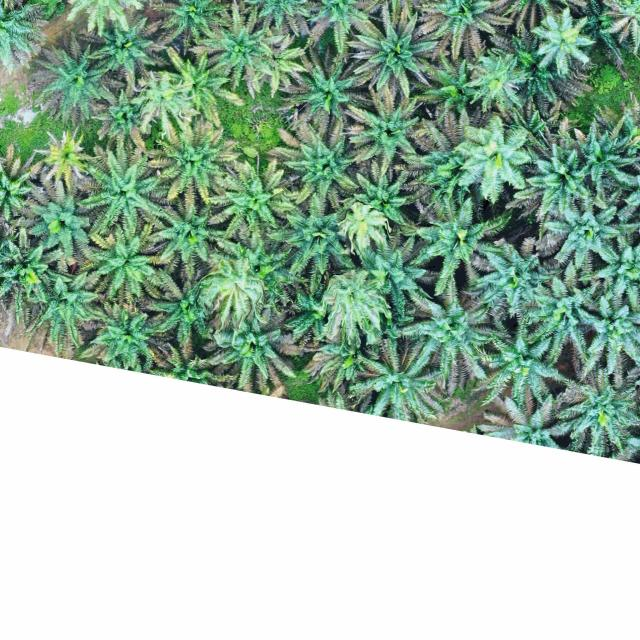Tree: (397, 272, 516, 394), (409, 193, 513, 296), (266, 112, 369, 210), (183, 0, 284, 99), (504, 134, 608, 228), (471, 319, 576, 412), (26, 30, 124, 126), (495, 26, 595, 120), (264, 190, 358, 290), (147, 110, 245, 205), (530, 192, 640, 276), (74, 138, 170, 234), (351, 3, 442, 102), (460, 234, 562, 321), (202, 156, 300, 246), (394, 104, 480, 206), (202, 301, 307, 382), (524, 256, 602, 365), (343, 84, 428, 178), (0, 223, 74, 328), (78, 218, 168, 304), (453, 110, 534, 205), (352, 230, 434, 319), (19, 258, 99, 348), (569, 283, 640, 384), (562, 110, 640, 201), (82, 15, 176, 90), (553, 368, 640, 447), (286, 48, 368, 130), (15, 173, 90, 260), (147, 191, 231, 265), (462, 42, 534, 118), (303, 338, 391, 399), (143, 268, 214, 342), (130, 67, 201, 138), (528, 8, 598, 76), (347, 162, 411, 234), (416, 49, 479, 120), (32, 124, 98, 191), (84, 303, 154, 362)
